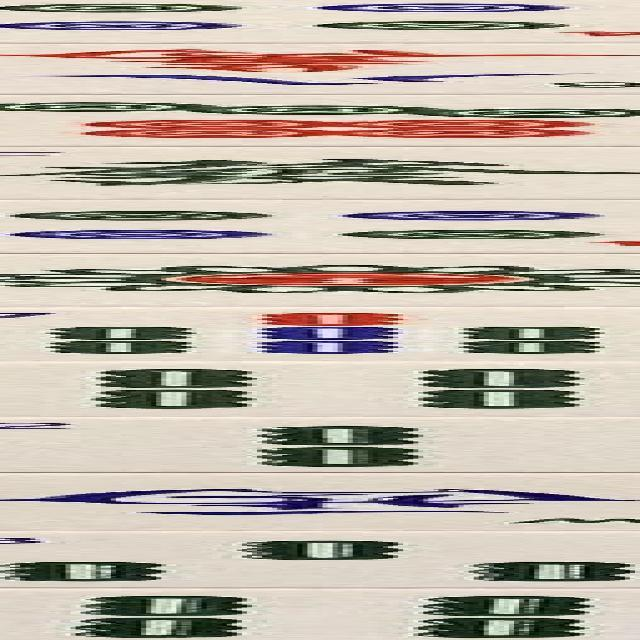hdg: (0, 149, 640, 198)
hww: (0, 472, 640, 526)
sb2: (0, 418, 640, 470)
sb3: (0, 531, 640, 585)
sb4: (25, 588, 640, 640), (0, 364, 640, 413)
sb7: (0, 306, 640, 360)
sc8: (0, 45, 640, 93)
sd1: (0, 252, 640, 304)
sd4: (0, 202, 640, 252), (0, 0, 640, 43)
sd7: (0, 94, 640, 148)
